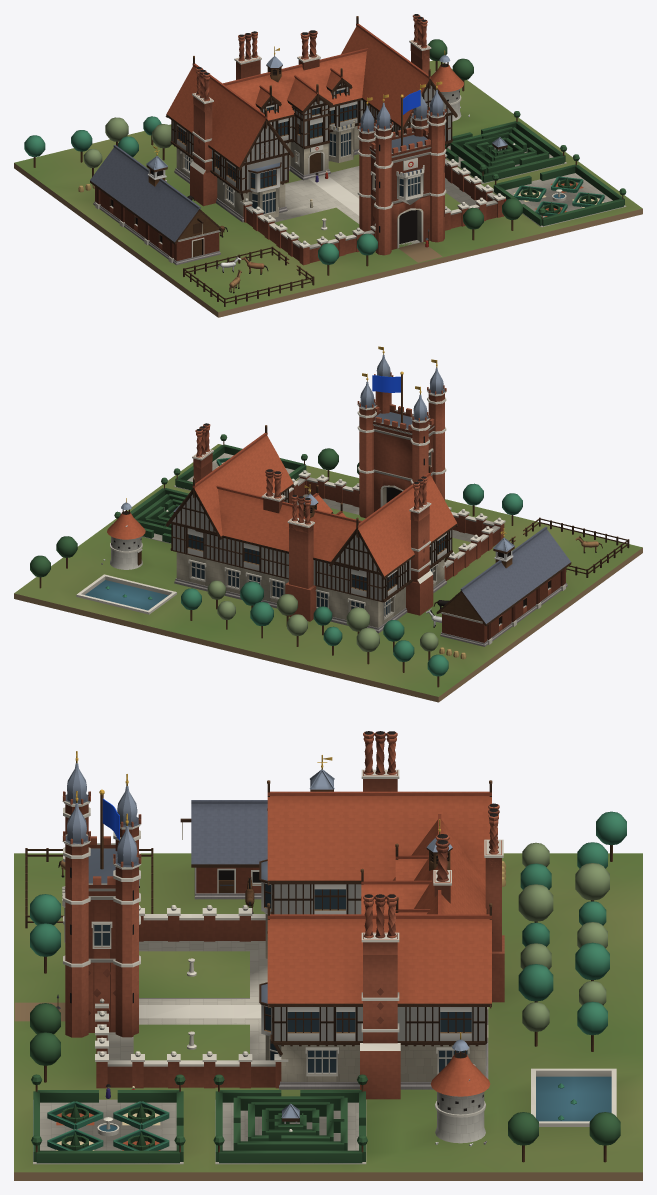
File: lm_manor.glb
3 renders of one model, top to bottom at view 1: azimuth 30°, elevation 25°; view 2: azimuth 150°, elevation 25°; view 3: azimuth 270°, elevation 25°, orthographic. The views are drawn at different scales.
Visible parts, largest first — view 1: lm_manor; view 2: lm_manor; view 3: lm_manor.
Part boxes in pixels (bbox=[...]): lm_manor: bbox=[14, 14, 642, 317]; lm_manor: bbox=[14, 346, 642, 702]; lm_manor: bbox=[14, 731, 642, 1180].
Bounding box in the file's own units: 2.4 × 0.8781 × 2.
Materials: 1 (1 with a texture image).
